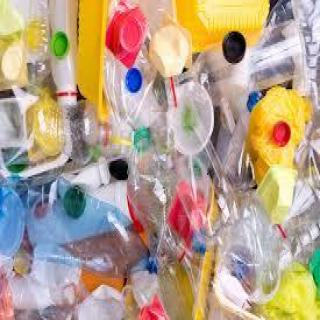Plastic-bottle: (167, 19, 312, 117), (127, 130, 200, 320), (27, 237, 129, 305), (22, 90, 110, 167)
